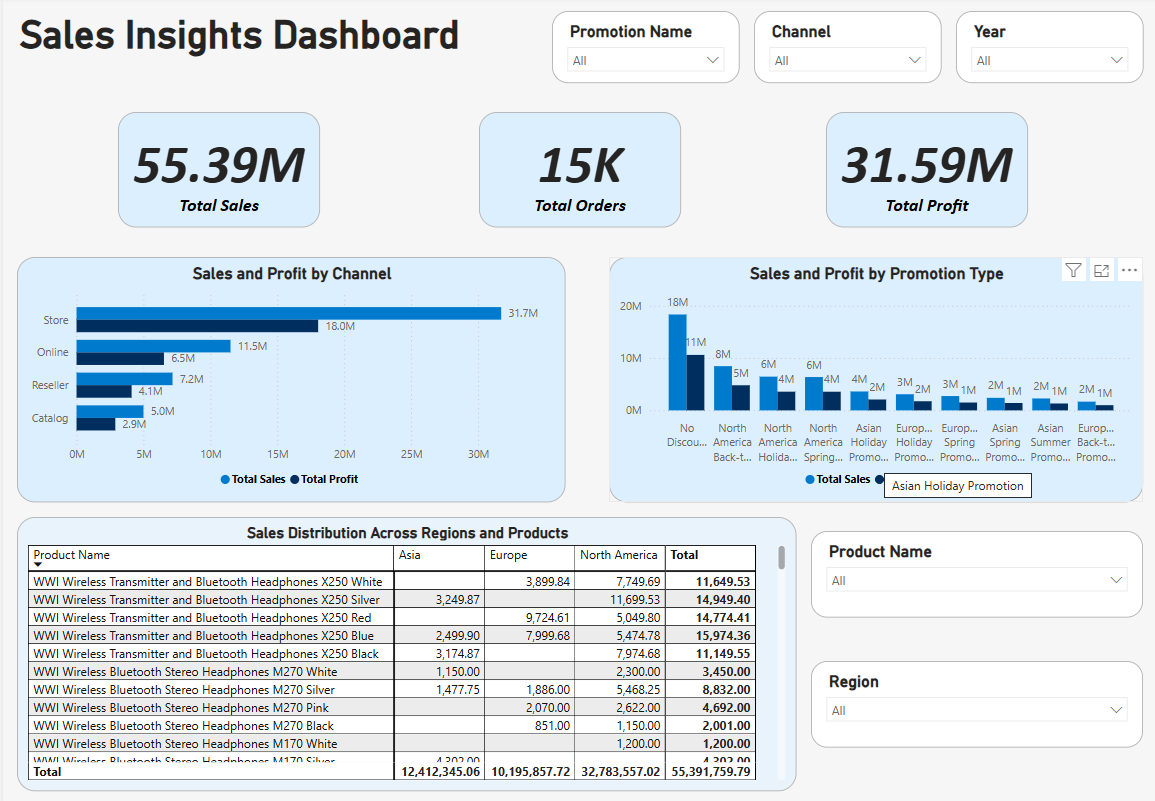

What the dashboard file says about the page in this screenshot:
{"tool":"powerbi","page":{"name":"Page 1","canvas":[1280,900],"ordinal":0},"visuals":[{"type":"card","fields":{"Values":["Sum(Data.Profit)"]},"box":[912,128,224,128],"z":0},{"type":"card","fields":{"Values":["Sum(Data.Sales)"]},"box":[128,128,224,128],"z":1000},{"type":"card","fields":{"Values":["CountNonNull(Data.Order ID)"]},"box":[528,128,224,128],"z":2000},{"type":"clusteredBarChart","title":" Sales and  Profit by Channel","fields":{"Category":["Data.Channel"],"Y":["Sum(Data.Sales)","Sum(Data.Profit)"]},"box":[16,288,608,272],"z":3000},{"type":"clusteredColumnChart","title":" Sales and  Profit by Promotion Type","fields":{"Category":["Data.Promotion Name"],"Y":["Sum(Data.Sales)","Sum(Data.Profit)"]},"box":[672,288,592,272],"z":4000},{"type":"textbox","box":[0,0,560,80],"z":5000},{"type":"slicer","fields":{"Values":["Data.Channel"]},"box":[832,16,208,80],"z":6000},{"type":"slicer","fields":{"Values":["Data.Region"]},"box":[896,736,368,96],"z":7000},{"type":"slicer","fields":{"Values":["Data.Promotion Name"]},"box":[608,16,208,80],"z":8000},{"type":"slicer","fields":{"Values":["Data.Product Name"]},"box":[896,592,368,96],"z":9000},{"type":"pivotTable","title":"Sales Distribution Across Regions and Products","fields":{"Rows":["Data.Product Name"],"Values":["Sum(Data.Sales)"],"Columns":["Data.Region"]},"box":[16,576,864,304],"z":10000},{"type":"slicer","fields":{"Values":["Data.Order Date.Variation.Date Hierarchy.Year"]},"box":[1056,16,208,80],"z":11000}]}

Visuals, with their boxes in screenshot pixels (x1, y1, x2, y2), scaled from the page's 1280x900 canvas onto the 1155x801 screenshot:
card - Sum(Data.Profit): [left=823, top=114, right=1025, bottom=228]
card - Sum(Data.Sales): [left=116, top=114, right=318, bottom=228]
card - CountNonNull(Data.Order ID): [left=476, top=114, right=679, bottom=228]
" Sales and  Profit by Channel" clusteredBarChart: [left=14, top=256, right=563, bottom=498]
" Sales and  Profit by Promotion Type" clusteredColumnChart: [left=606, top=256, right=1141, bottom=498]
textbox: [left=0, top=0, right=505, bottom=71]
slicer - Data.Channel: [left=751, top=14, right=938, bottom=85]
slicer - Data.Region: [left=808, top=655, right=1141, bottom=740]
slicer - Data.Promotion Name: [left=549, top=14, right=736, bottom=85]
slicer - Data.Product Name: [left=808, top=527, right=1141, bottom=612]
"Sales Distribution Across Regions and Products" pivotTable: [left=14, top=513, right=794, bottom=783]
slicer - Data.Order Date.Variation.Date Hierarchy.Year: [left=953, top=14, right=1141, bottom=85]
